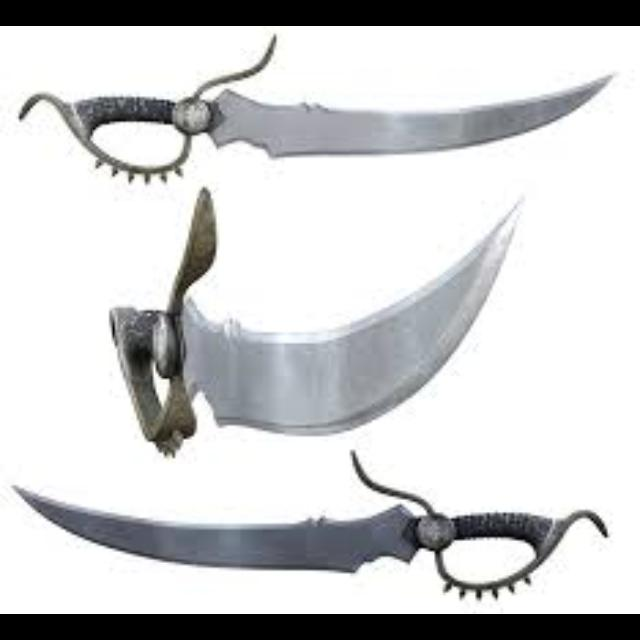Knife: (107, 185, 525, 455), (17, 32, 615, 185), (9, 448, 607, 600), (107, 185, 216, 455)
